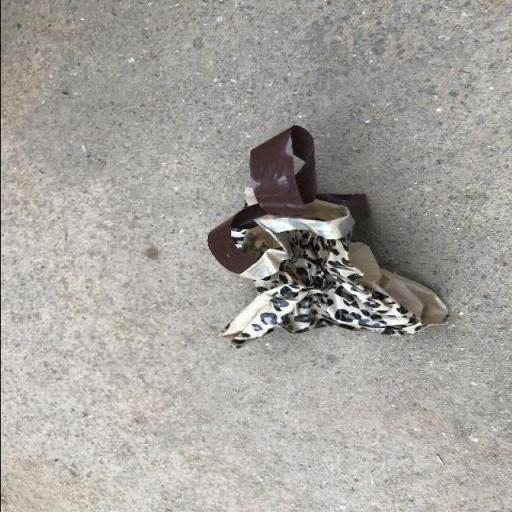plastic-bag: (204, 123, 452, 350)
